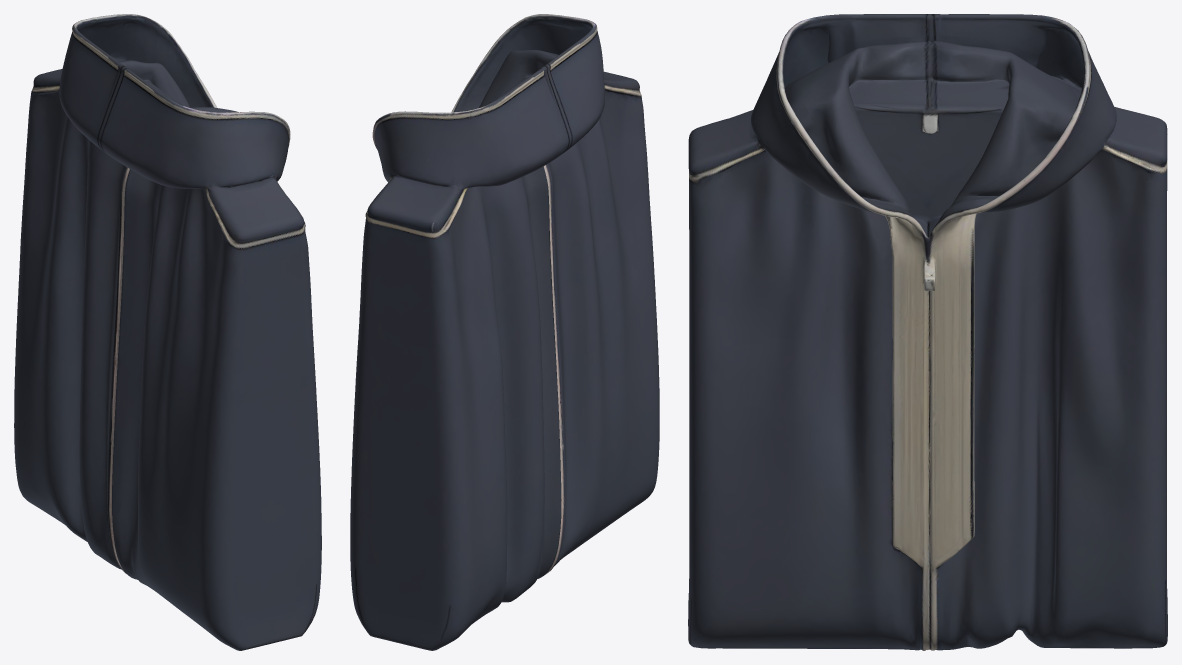
The model's file is foldDress.glb.
The picture shows the model from 3 angles, left to right: view 1: azimuth 30°, elevation 25°; view 2: azimuth 150°, elevation 25°; view 3: azimuth 270°, elevation 25°; orthographic projection. The views are drawn at different scales.
Visible parts, largest first — view 1: tripo_node_2a567890-edf6-474e-a78e-1d37ccc014b9; view 2: tripo_node_2a567890-edf6-474e-a78e-1d37ccc014b9; view 3: tripo_node_2a567890-edf6-474e-a78e-1d37ccc014b9.
Part boxes in pixels (bbox=[...]): tripo_node_2a567890-edf6-474e-a78e-1d37ccc014b9: bbox=[14, 14, 321, 650]; tripo_node_2a567890-edf6-474e-a78e-1d37ccc014b9: bbox=[350, 14, 659, 650]; tripo_node_2a567890-edf6-474e-a78e-1d37ccc014b9: bbox=[688, 14, 1167, 650].
Size of the model in its own units: 0.3073 by 0.9999 by 0.7331.
1 material, 1 textured.
